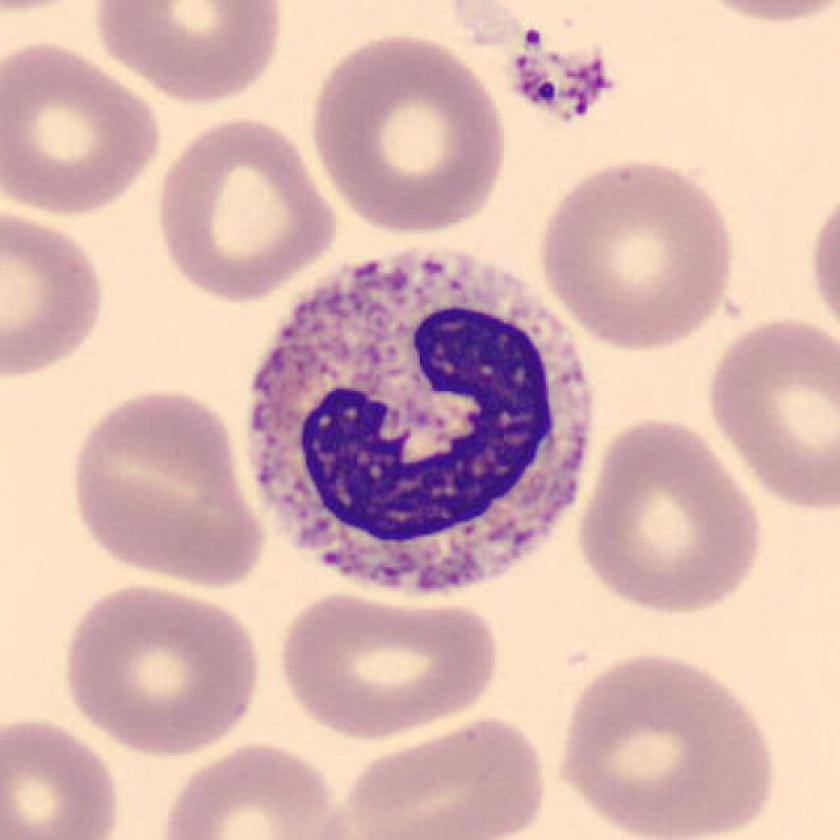neutrophil: (249, 249, 593, 590)
